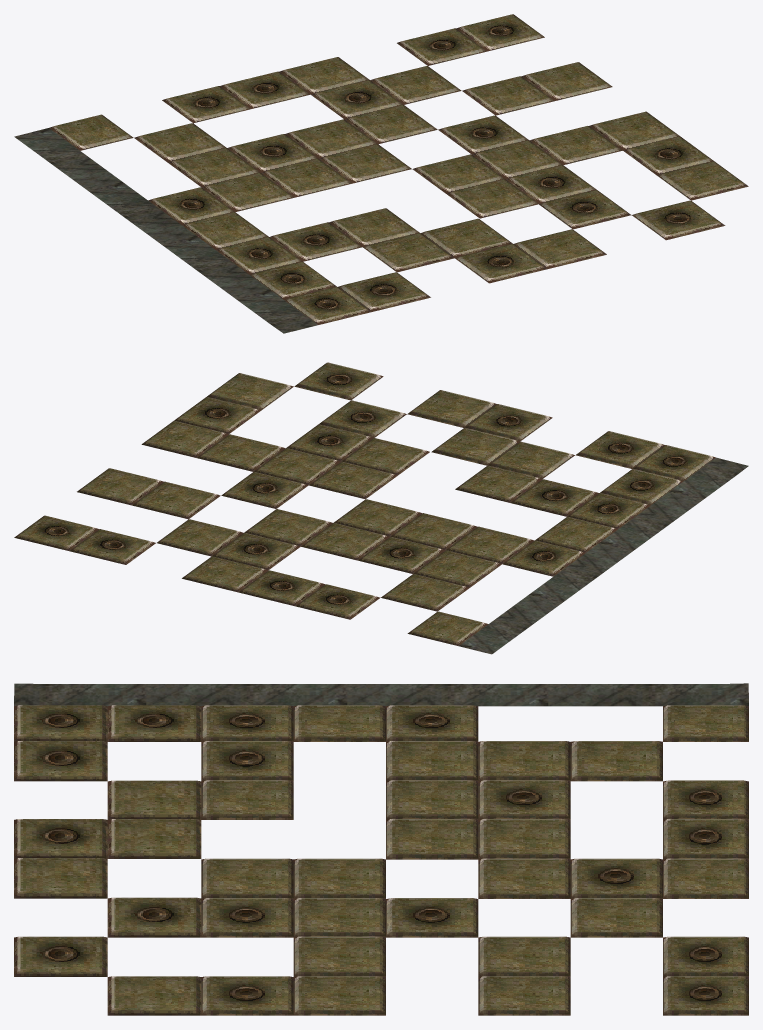
Rendered from DWARF_PALACE_EREBOR_PZL_TILE_SURFACE.fbx.
3 renders of one model, top to bottom at view 1: azimuth 30°, elevation 25°; view 2: azimuth 150°, elevation 25°; view 3: azimuth 270°, elevation 25°, orthographic. The views are drawn at different scales.
Visible parts, largest first — view 1: DWARF_PALACE_EREBOR_PZL_TILE_SURFACE; view 2: DWARF_PALACE_EREBOR_PZL_TILE_SURFACE; view 3: DWARF_PALACE_EREBOR_PZL_TILE_SURFACE.
Boxes of the visible parts, left/top/right/bottom form: DWARF_PALACE_EREBOR_PZL_TILE_SURFACE: left=14, top=14, right=748, bottom=333; DWARF_PALACE_EREBOR_PZL_TILE_SURFACE: left=14, top=362, right=748, bottom=654; DWARF_PALACE_EREBOR_PZL_TILE_SURFACE: left=14, top=683, right=748, bottom=1015.
Size of the model in its own units: 86009 by 453 by 80331.
Materials: 3 (3 with a texture image).
